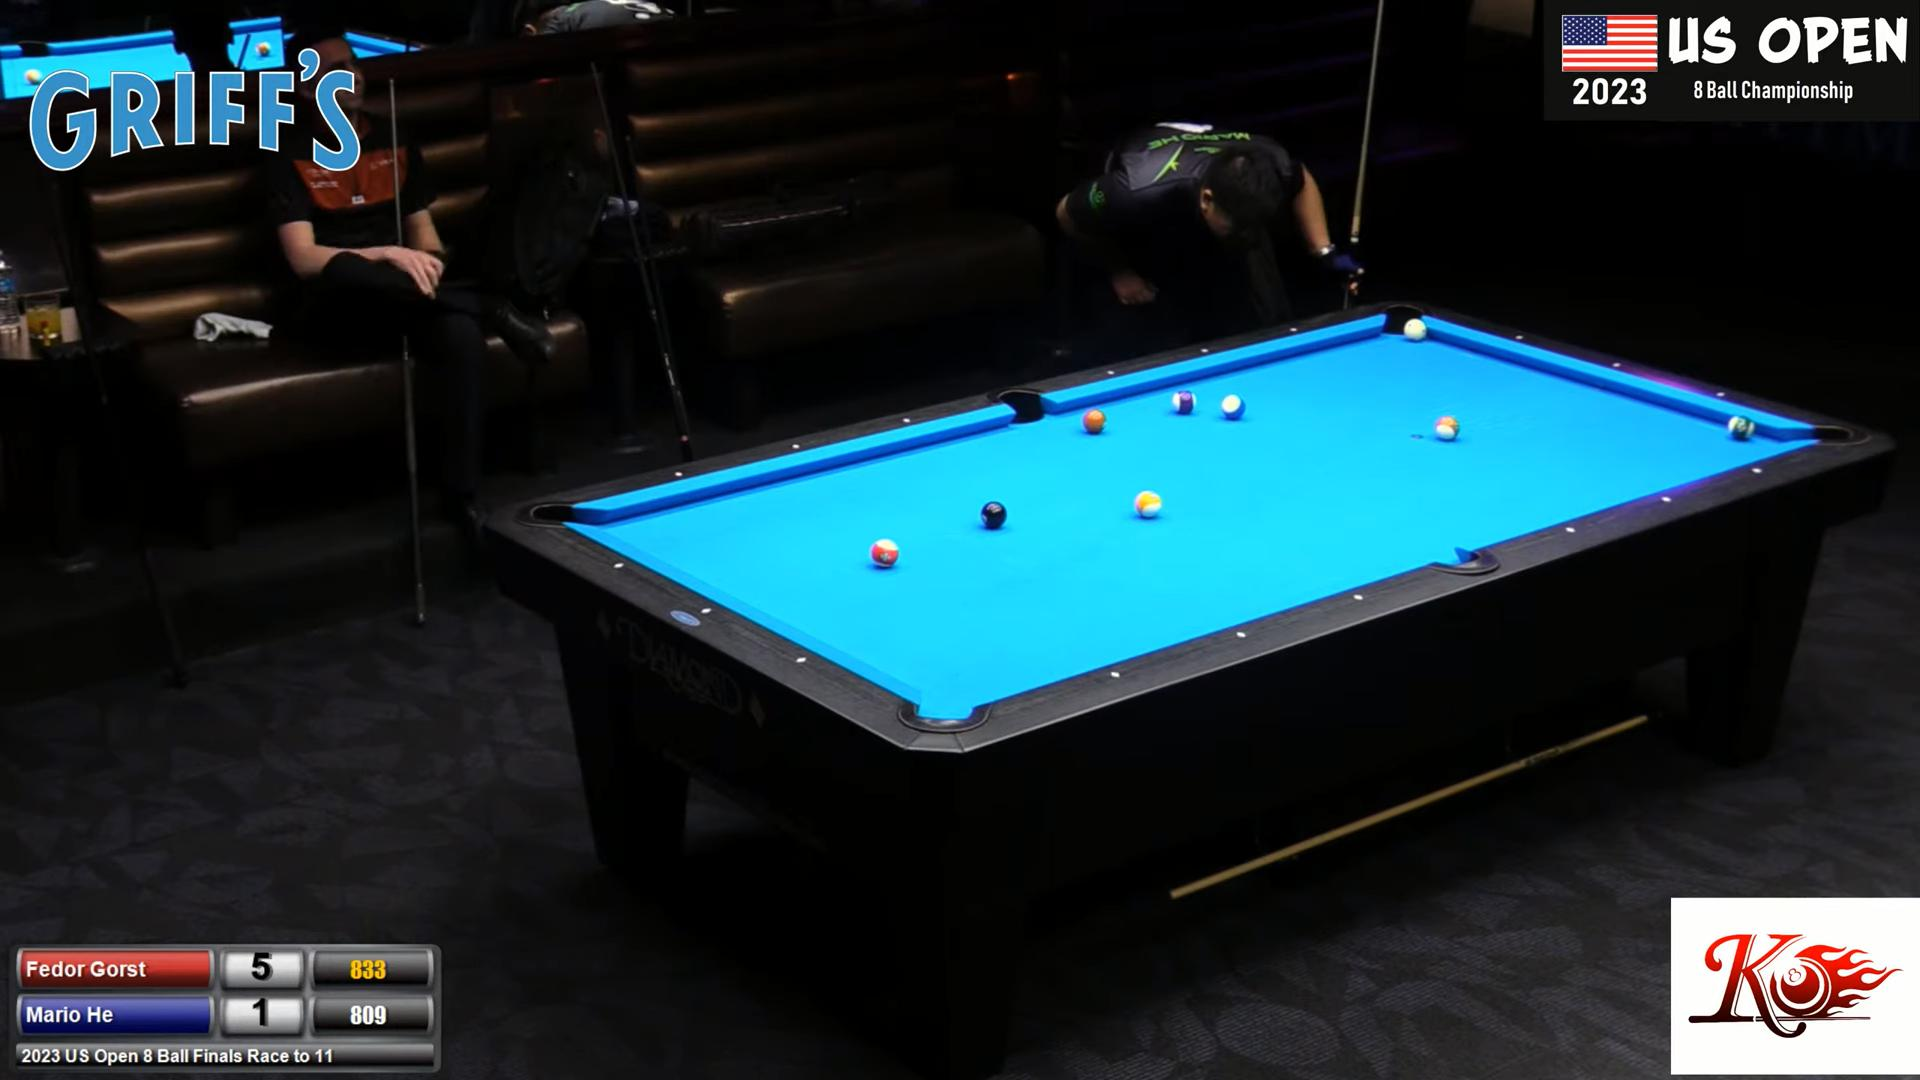Black: (981, 501, 1006, 527)
Cue: (1404, 319, 1427, 342)
Dot: (790, 653, 812, 667), (785, 439, 807, 454), (1100, 365, 1122, 380), (1193, 343, 1216, 357), (1606, 357, 1629, 372), (1746, 463, 1768, 477), (1655, 492, 1677, 506), (1346, 589, 1369, 604), (1104, 667, 1126, 682), (695, 604, 716, 618), (669, 467, 690, 481), (1710, 386, 1731, 401), (895, 414, 918, 427), (1283, 323, 1305, 336), (1509, 331, 1531, 344), (1559, 524, 1581, 537), (608, 559, 629, 572), (1230, 628, 1251, 641)
Solid: (1083, 409, 1106, 433)
Striped: (870, 538, 899, 567), (1135, 491, 1162, 517), (1221, 394, 1246, 419), (1729, 415, 1754, 439), (1435, 415, 1460, 439), (1172, 389, 1196, 413)
